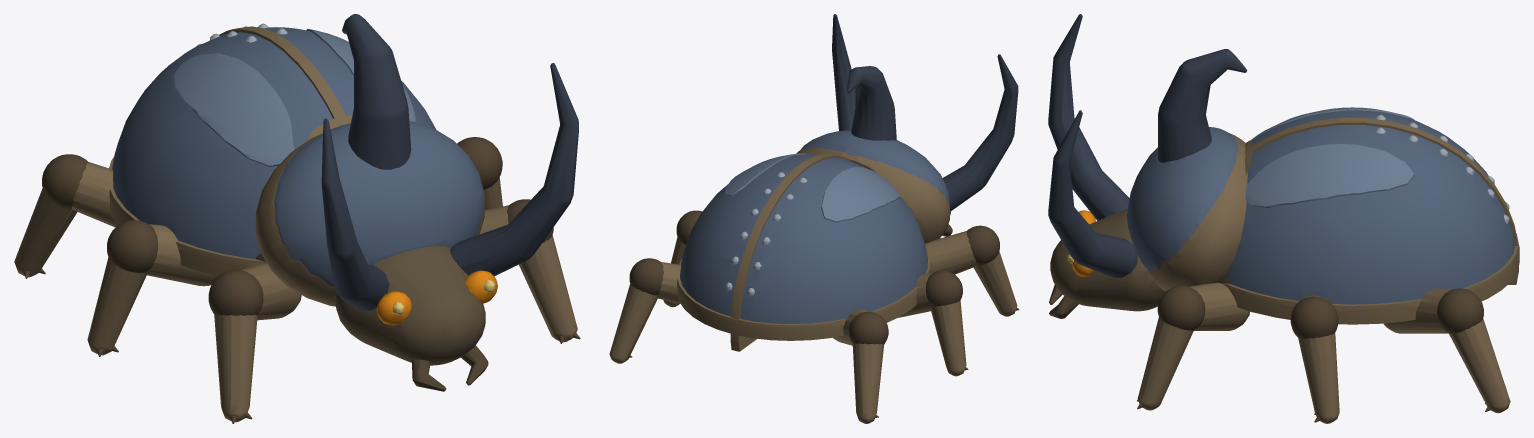
Rendered from ironcarab.glb.
3 views of the same model, side by side, from view 1: azimuth 30°, elevation 25°; view 2: azimuth 150°, elevation 25°; view 3: azimuth 270°, elevation 25° (orthographic). The views are drawn at different scales.
Visible parts, largest first — view 1: creature; view 2: creature; view 3: creature.
Boxes of the visible parts, bbox=[...] form: creature: bbox=[14, 14, 580, 423]; creature: bbox=[609, 14, 1019, 423]; creature: bbox=[1048, 14, 1519, 423].
Size of the model in its own units: 1.31 by 0.9999 by 1.48.
